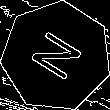N_SE: (24, 26, 89, 87)
